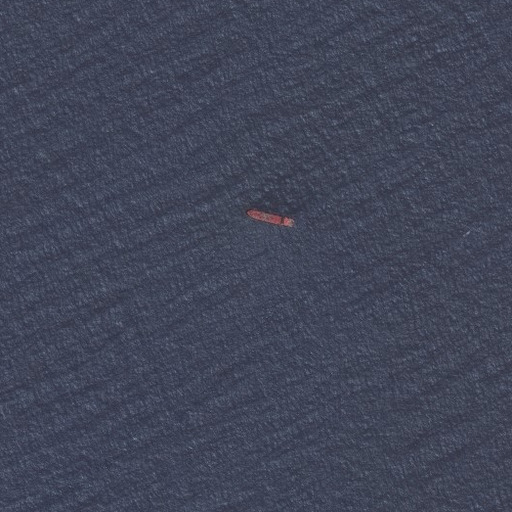ship: (244, 207, 297, 231)
